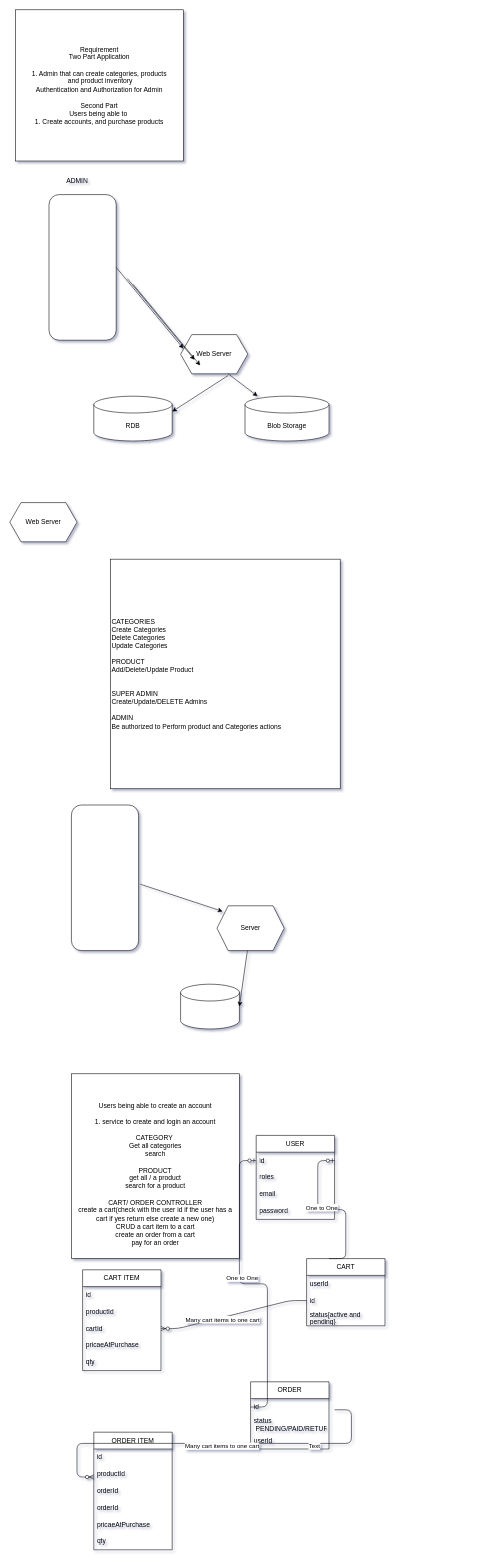
This 479x1563 diagram has some shape labels left out. The shapes that lost their labels are listed below. From the top down, each one's centre as x and y in pixels, then its label:
At point 82,267: "FE".
At point 105,877: "USER FE".
At point 209,1006: "DB".
